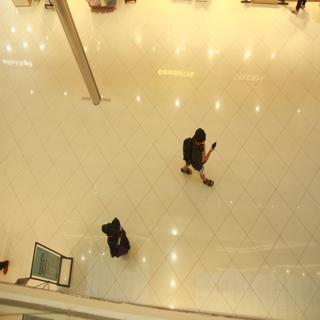person: (177, 119, 223, 201), (97, 212, 136, 260)
